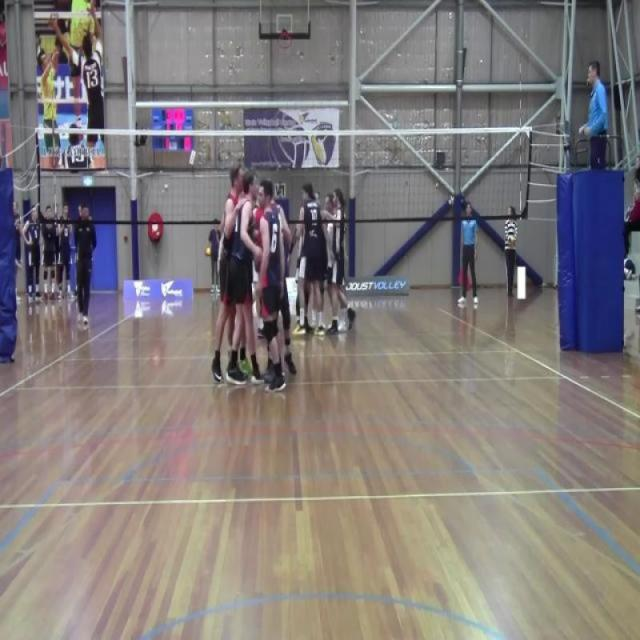volleyball: (204, 244, 212, 260)
